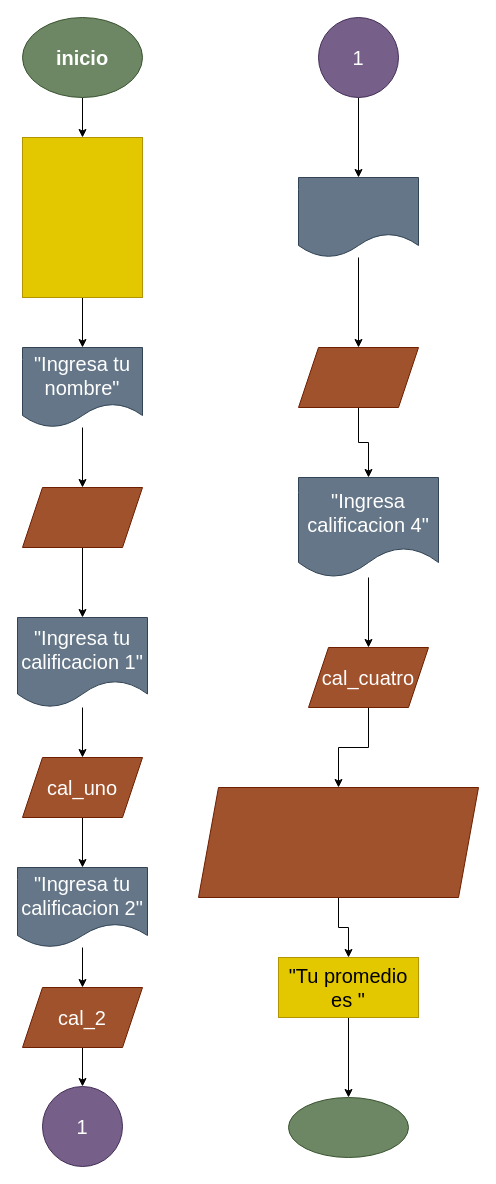
Image size: 496x1184. Some labels were removed from this diagram. Here are the shapes that lost their labels. From the top down, the centre of each, then its label:
point 82,217: nombre cal uno cal dos cal tres cal cuatro promedio
point 358,217: ingresa calificacion 3
point 358,377: cal_tres
point 82,517: nombre
point 338,842: promedio=(cal_uno+cal_dos+cal_tres+cal_cuatro)/4
point 348,1127: fin
